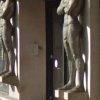Statue: (51, 0, 99, 91)
